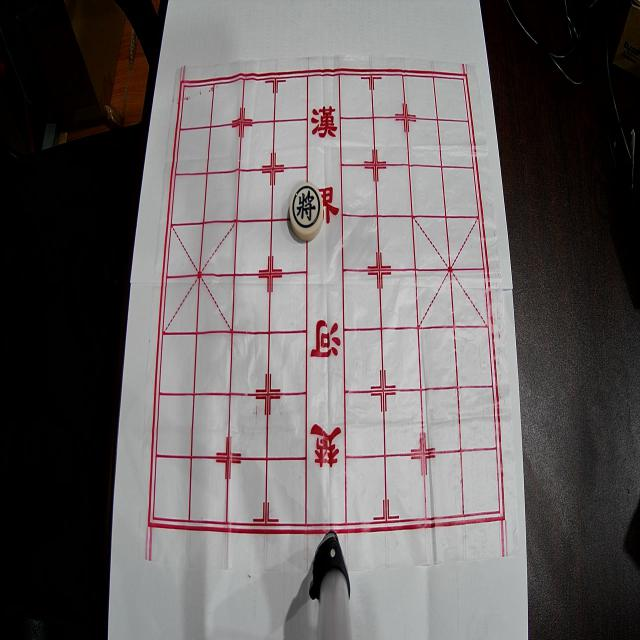black-general: (290, 183, 323, 241)
